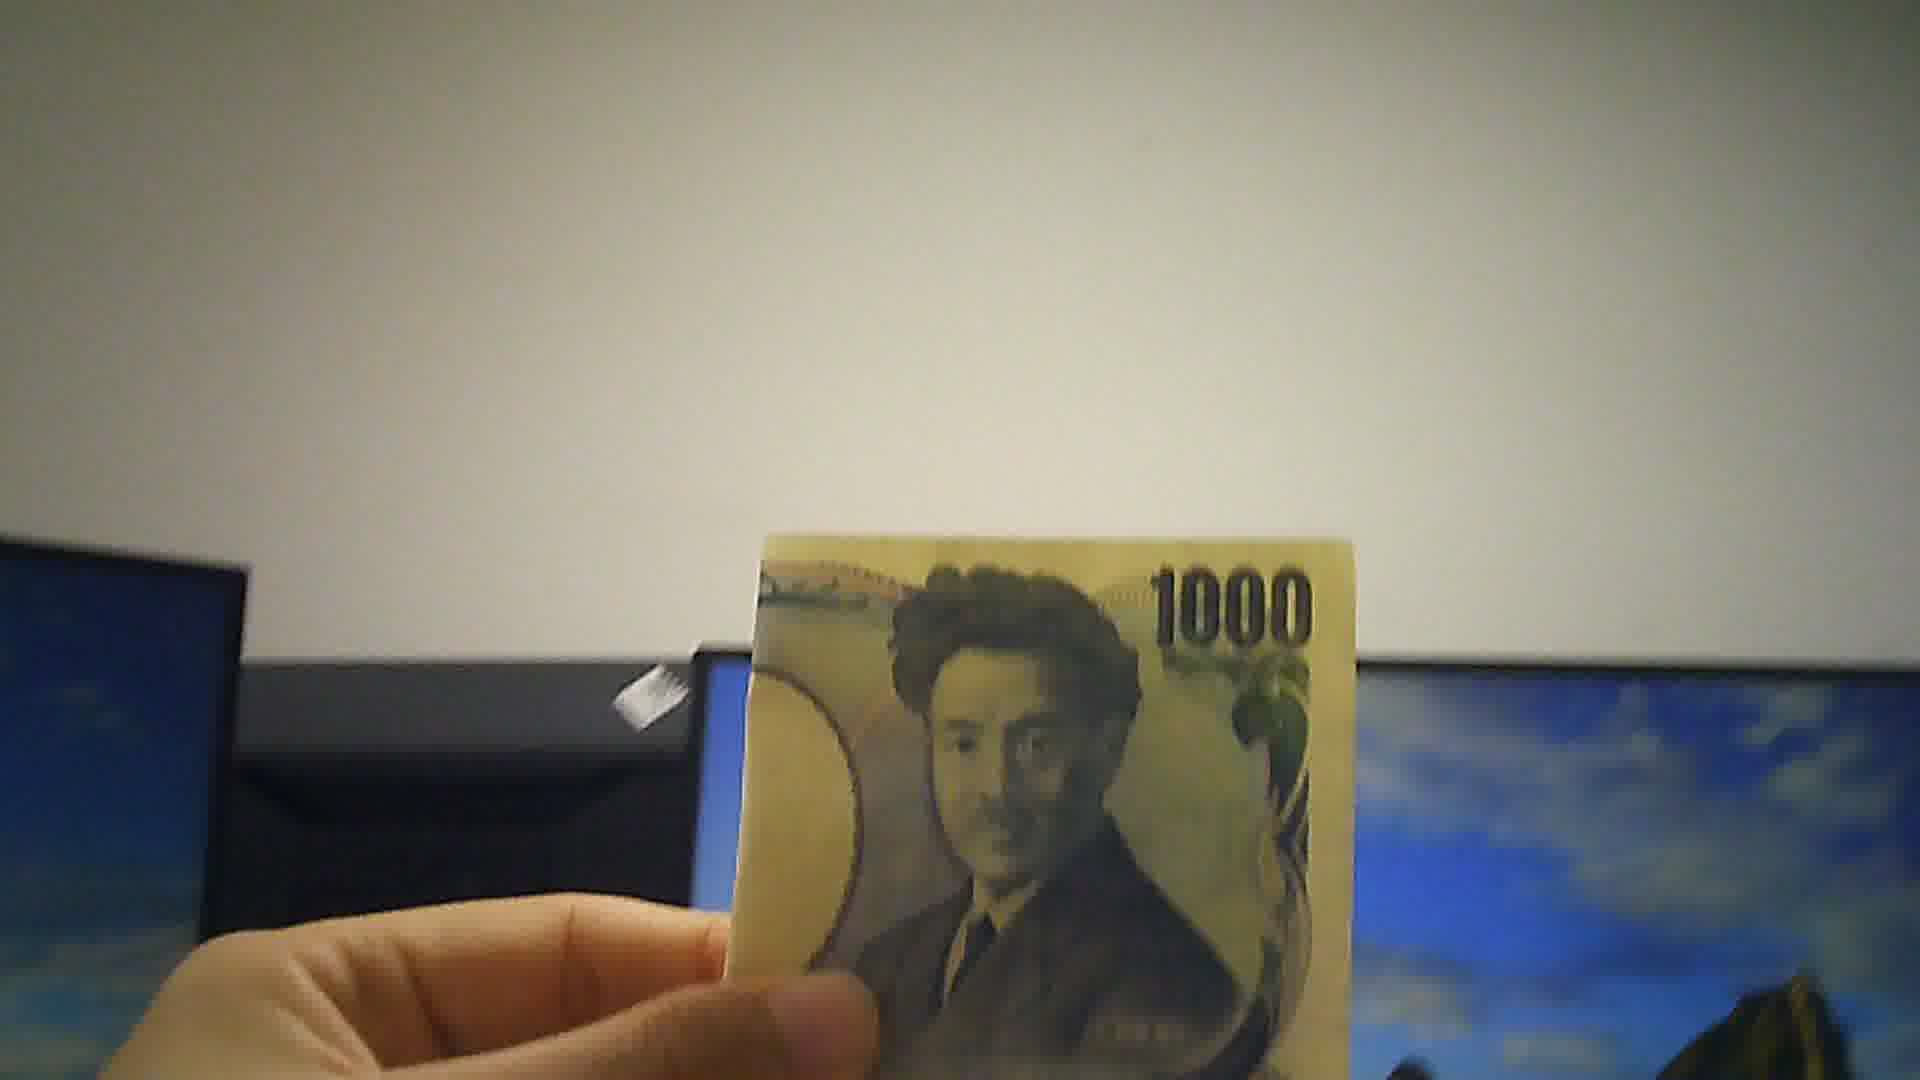1,000 Yen: (735, 530, 1375, 1071)
